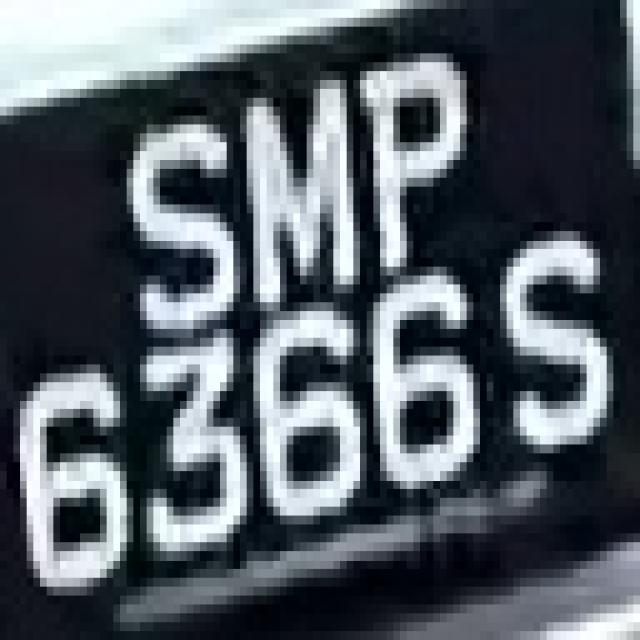3: (126, 311, 246, 569)
6: (347, 222, 493, 534), (246, 276, 386, 524), (13, 346, 127, 604)
M: (220, 62, 380, 311)
P: (354, 18, 474, 266)
S: (480, 213, 620, 480), (114, 98, 254, 338)
